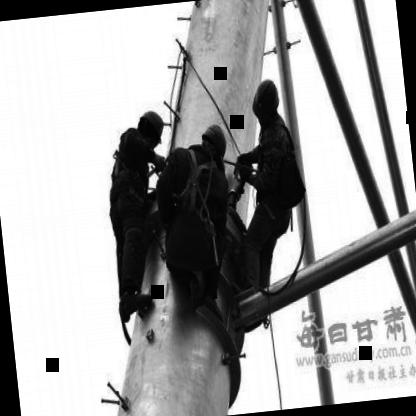helmet: (246, 70, 286, 142), (195, 118, 230, 168), (132, 102, 166, 150)
